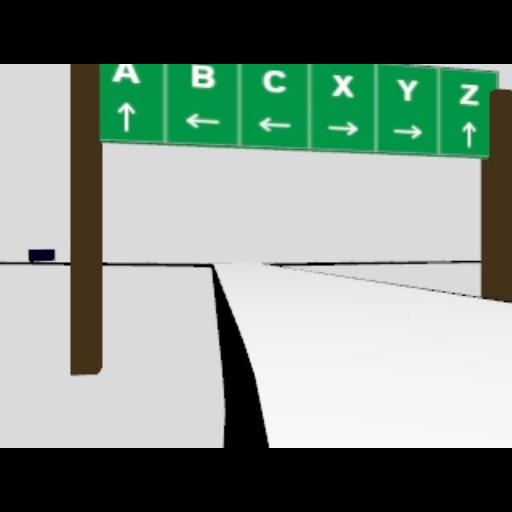A: (110, 64, 140, 84)
B: (190, 64, 216, 88)
C: (262, 69, 286, 93)
Left: (256, 115, 292, 133), (184, 112, 220, 128)
Right: (326, 120, 360, 136), (392, 123, 422, 139)
Straight: (116, 101, 136, 133), (461, 121, 475, 147)
X: (331, 74, 353, 96)
Y: (395, 79, 417, 101)
Z: (459, 83, 481, 107)
